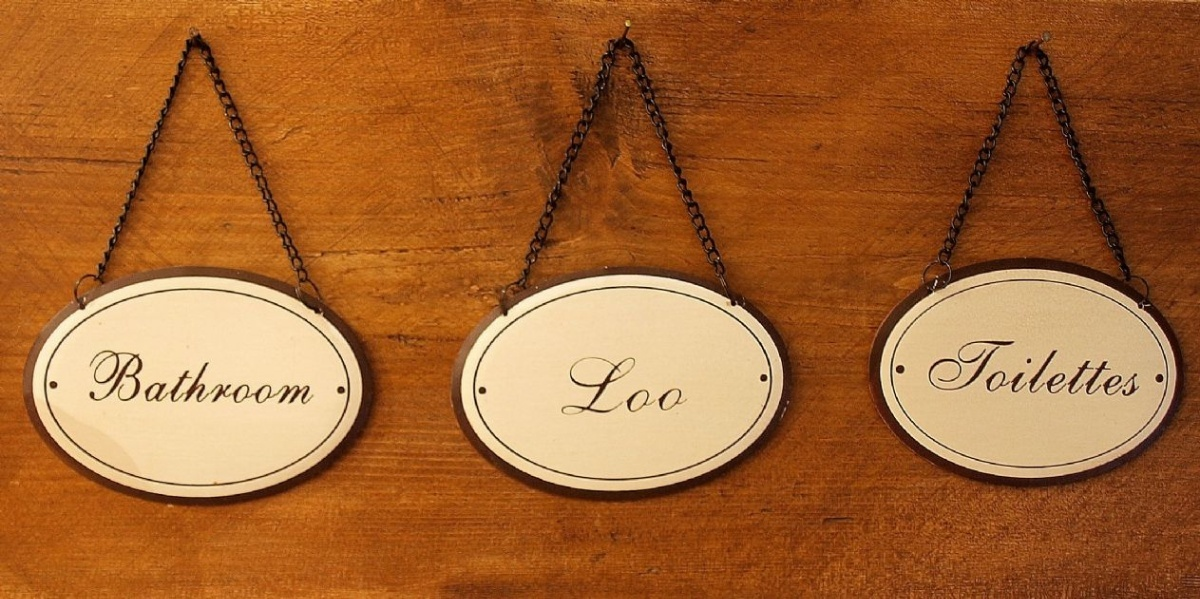text: (577, 356, 592, 418), (593, 356, 608, 418), (609, 356, 624, 418), (625, 356, 640, 418), (641, 356, 656, 418), (657, 356, 672, 418), (673, 356, 688, 418), (945, 339, 960, 397), (961, 339, 976, 397), (977, 339, 992, 397), (993, 339, 1008, 397), (1009, 339, 1024, 397), (1025, 339, 1040, 397), (1041, 339, 1056, 397), (1057, 339, 1072, 397), (1073, 339, 1088, 397), (1089, 339, 1104, 397), (1105, 339, 1120, 397), (1121, 339, 1136, 397), (97, 349, 112, 406), (113, 349, 128, 406), (129, 349, 144, 406), (145, 349, 160, 406), (161, 349, 176, 406), (177, 349, 192, 406), (193, 349, 208, 406), (209, 349, 224, 406), (225, 349, 240, 406), (241, 349, 256, 406), (257, 349, 272, 406), (273, 349, 288, 406), (289, 349, 304, 406), (931, 339, 944, 397), (305, 349, 316, 406), (91, 349, 96, 406), (1137, 339, 1141, 397), (573, 356, 576, 418)
